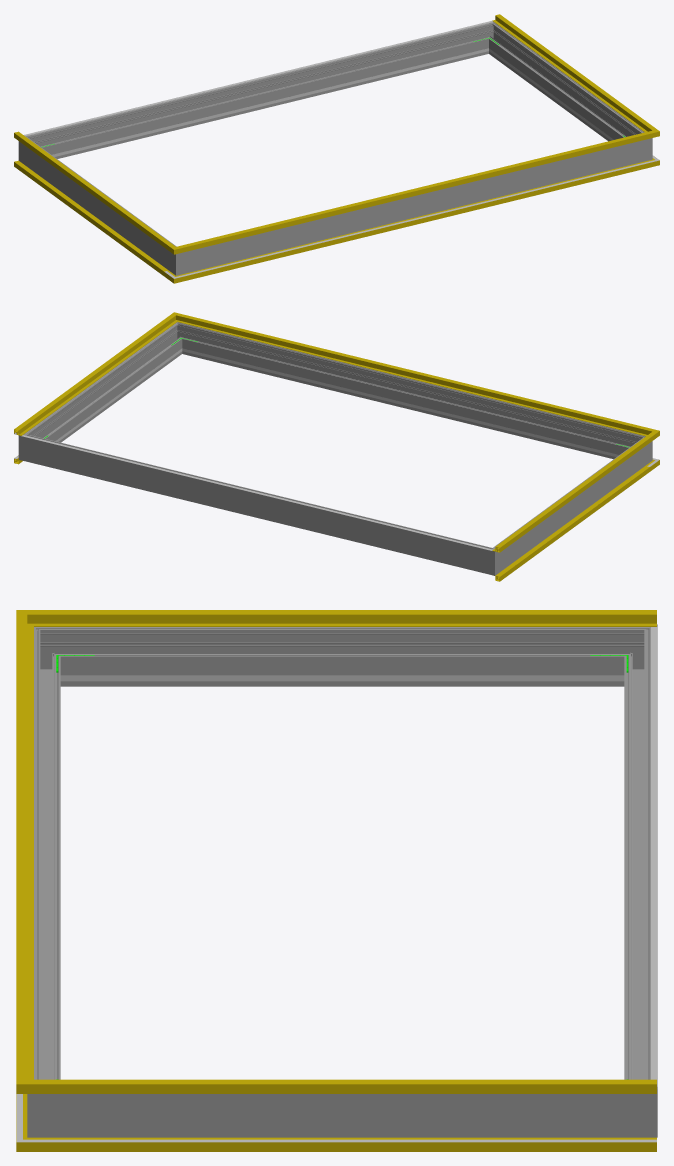
3 views of the same model, one above another, from view 1: azimuth 30°, elevation 25°; view 2: azimuth 150°, elevation 25°; view 3: azimuth 270°, elevation 25° (orthographic). The views are drawn at different scales.
Visible parts, largest first — view 1: 3DGeom-278, 3DGeom-300, 3DGeom-299, 3DGeom-123, 3DGeom-11, 3DGeom-270, 3DGeom-128, 3DGeom-118, 3DGeom-246, 3DGeom-6, 3DGeom-222, 3DGeom-20 (+5 smaller); view 2: 3DGeom-300, 3DGeom-278, 3DGeom-299, 3DGeom-123, 3DGeom-270, 3DGeom-128, 3DGeom-118, 3DGeom-241, 3DGeom-6, 3DGeom-222, 3DGeom-280, 3DGeom-286 (+3 smaller); view 3: 3DGeom-270, 3DGeom-299, 3DGeom-278, 3DGeom-300, 3DGeom-118, 3DGeom-128, 3DGeom-123, 3DGeom-16, 3DGeom-234, 3DGeom-222, 3DGeom-18, 3DGeom-286 (+4 smaller).
Part boxes in pixels (<box>): 3DGeom-278: <box>37,25,485,158</box>; 3DGeom-300: <box>193,142,635,271</box>; 3DGeom-299: <box>490,28,639,141</box>; 3DGeom-123: <box>189,133,642,250</box>; 3DGeom-11: <box>189,162,642,279</box>; 3DGeom-270: <box>28,142,171,267</box>; 3DGeom-128: <box>492,14,649,130</box>; 3DGeom-118: <box>14,131,168,246</box>; 3DGeom-246: <box>58,52,471,155</box>; 3DGeom-6: <box>14,160,168,275</box>; 3DGeom-222: <box>24,21,493,136</box>; 3DGeom-20: <box>190,163,641,274</box>; 3DGeom-300: <box>185,325,633,459</box>; 3DGeom-278: <box>36,437,480,571</box>; 3DGeom-299: <box>31,328,180,442</box>; 3DGeom-123: <box>187,316,642,434</box>; 3DGeom-270: <box>500,442,642,568</box>; 3DGeom-128: <box>14,319,171,435</box>; 3DGeom-118: <box>492,437,649,552</box>; 3DGeom-241: <box>199,352,612,456</box>; 3DGeom-6: <box>495,466,649,581</box>; 3DGeom-222: <box>21,435,492,550</box>; 3DGeom-280: <box>477,543,504,575</box>; 3DGeom-286: <box>18,429,38,463</box>; 3DGeom-270: <box>67,627,617,686</box>; 3DGeom-299: <box>67,1094,617,1137</box>; 3DGeom-278: <box>624,641,657,1079</box>; 3DGeom-300: <box>34,641,60,1079</box>; 3DGeom-118: <box>56,610,656,626</box>; 3DGeom-128: <box>56,1079,656,1093</box>; 3DGeom-123: <box>16,627,33,1076</box>; 3DGeom-16: <box>56,1137,656,1151</box>; 3DGeom-234: <box>99,675,585,681</box>; 3DGeom-222: <box>651,627,657,1086</box>; 3DGeom-18: <box>56,1139,656,1142</box>; 3DGeom-286: <box>617,1072,657,1137</box>.
Bounding box in the file's own units: 4.27 × 0.2836 × 2.44.
